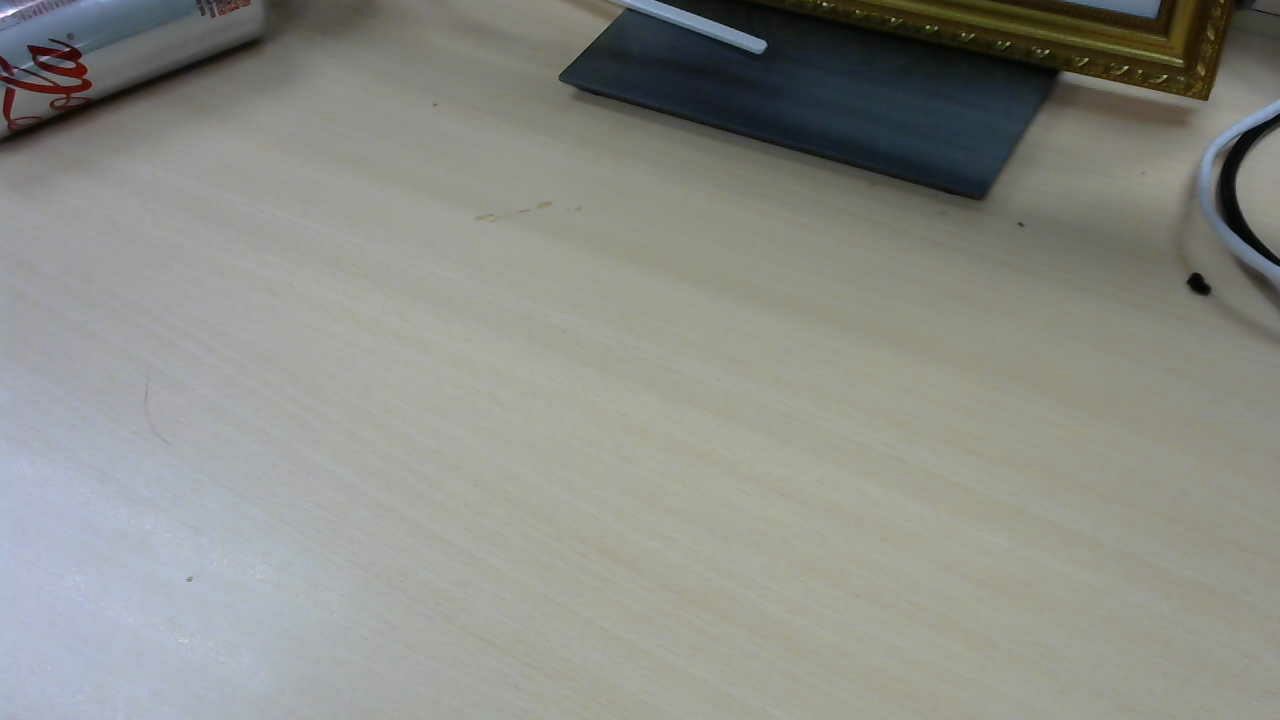Coca_Cola: (7, 7, 283, 140)
